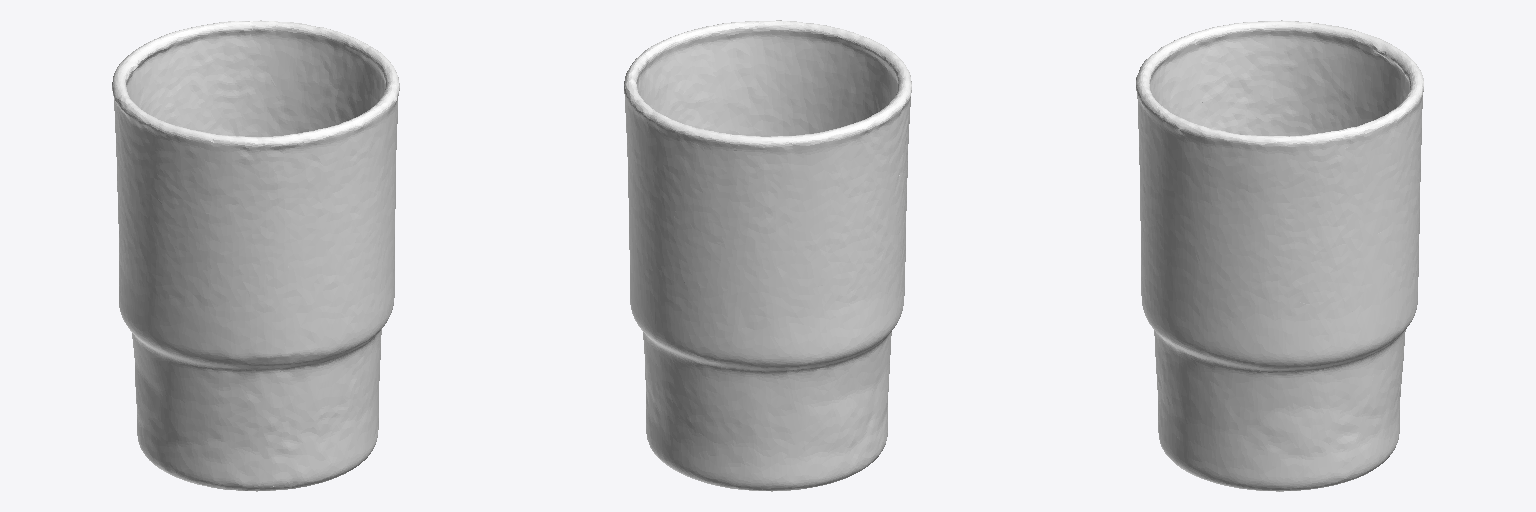
URDF robot description (model.urdf):
<robot name="model.urdf">
    <link name="baseLink">
        <contact>
            <lateral_friction value="0.4"/>
            <rolling_friction value="1"/>
            <spinning_friction value="1"/>
            <contact_cfm value="0.0"/>
            <contact_erp value="1.0"/>
        </contact>
        <inertial>
            <origin rpy="0 0 0" xyz="0. 0.0 -0.01"/>
            <mass value="0.5"/>
            <inertia ixx="1e-3" ixy="0" ixz="0" iyy="1e-3" iyz="0" izz="1e-3"/>
        </inertial>
        <visual>
            <origin xyz="0.0 0.0 0.0" rpy="0 0 -1.7" />
            <geometry>
                <mesh filename="nontextured.stl" scale="1 1 1"/>
            </geometry>
            <material name="white">
                <color rgba="1 1 1 1"/>
            </material>
        </visual>
        <collision>
            <origin xyz="0.0 0.0 0.0" rpy="0 0 -1.7" />
            <geometry>
                <mesh filename="nontextured.stl" scale="1 1 1"/>
            </geometry>
        </collision>
    </link>
</robot>

--- Render facts (derived) ---
Views: 3 orthographic renders of the robot side by side, from view 1: azimuth 30°, elevation 25°; view 2: azimuth 150°, elevation 25°; view 3: azimuth 270°, elevation 25°.
Model model.urdf with 1 links and 0 joints (none), rooted at baseLink, posed all joints at 0.
Links seen in each view (by area): view 1: baseLink; view 2: baseLink; view 3: baseLink.
Link boxes in pixels (bbox=[...]): baseLink: bbox=[112, 20, 399, 491]; baseLink: bbox=[624, 20, 911, 491]; baseLink: bbox=[1136, 20, 1423, 491].
Size in the robot's own frame: 0.0688 by 0.069 by 0.0968 metres.
Meshes: 1 distinct files referenced, 1 mesh visuals loaded (1 binary STL).